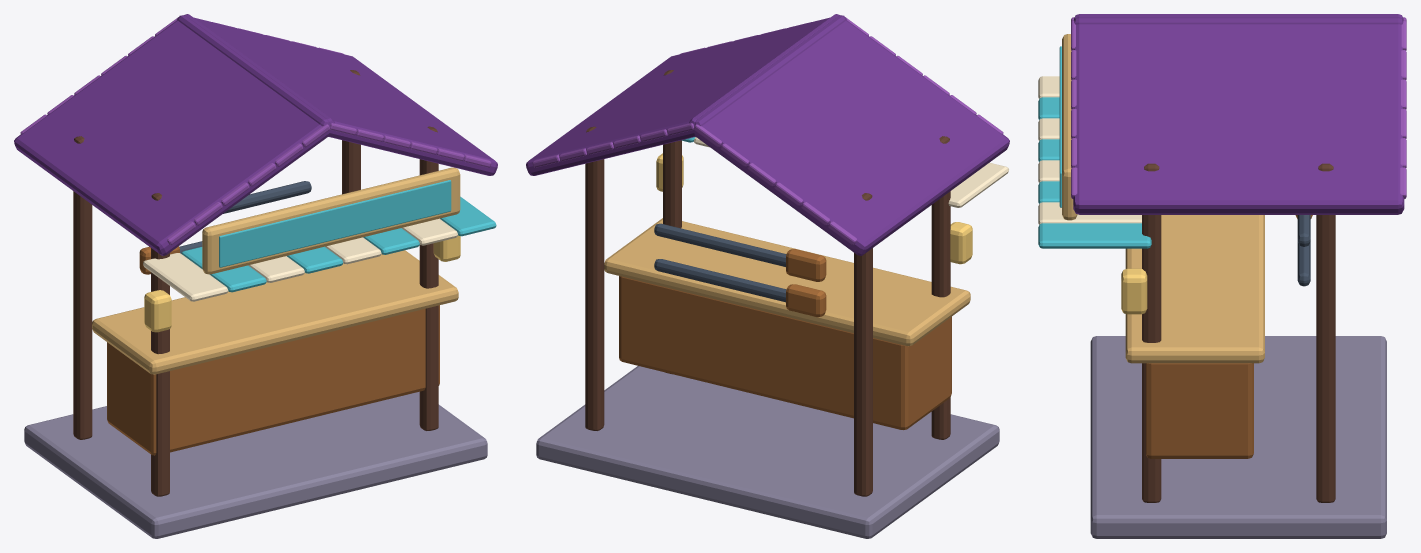
Rendered from Pavilion_Weapons.glb.
3 renders of one model, left to right at view 1: azimuth 30°, elevation 25°; view 2: azimuth 150°, elevation 25°; view 3: azimuth 270°, elevation 25°, orthographic. The views are drawn at different scales.
Visible parts, largest first — view 1: Roof, StoneBase, Counter, CounterTop, Roof.001, SignInset, Sign, Post.001, Post.002, Post, AwningStripe, AwningStripe.001 (+10 smaller); view 2: StoneBase, Roof, Counter, CounterTop, Roof.001, Post.003, Post.001, Post, RackRifle.001, RackRifle, Post.002, AwningStripe (+3 smaller); view 3: Roof.001, StoneBase, CounterTop, Counter, Post.003, Post.002, Roof, AwningStripe.007, Sign, Lantern.001, AwningStripe.006, RackRifle (+7 smaller).
Part boxes in pixels (<box>): Roof: <box>14,14,334,255</box>; StoneBase: <box>24,391,487,538</box>; Counter: <box>107,305,439,455</box>; CounterTop: <box>92,250,458,374</box>; Roof.001: <box>177,15,497,175</box>; SignInset: <box>219,180,451,267</box>; Sign: <box>202,167,460,274</box>; Post.001: <box>73,136,92,439</box>; Post.002: <box>419,126,438,430</box>; Post: <box>151,193,169,496</box>; AwningStripe: <box>143,253,228,301</box>; AwningStripe.001: <box>181,247,266,292</box>; StoneBase: <box>536,366,999,538</box>; Roof: <box>689,14,1009,255</box>; Counter: <box>619,276,951,430</box>; CounterTop: <box>604,218,970,346</box>; Roof.001: <box>526,15,846,175</box>; Post.003: <box>585,126,604,430</box>; Post.001: <box>854,193,872,496</box>; Post: <box>931,136,950,439</box>; RackRifle.001: <box>654,223,786,266</box>; RackRifle: <box>654,259,786,302</box>; Post.002: <box>663,70,681,373</box>; AwningStripe: <box>948,162,1008,207</box>; Roof.001: <box>1073,14,1404,214</box>; StoneBase: <box>1090,336,1386,538</box>; CounterTop: <box>1125,215,1264,363</box>; Counter: <box>1146,363,1253,458</box>; Post.003: <box>1316,163,1335,502</box>; Post.002: <box>1142,163,1161,502</box>; Roof: <box>1074,16,1403,24</box>; AwningStripe.007: <box>1038,223,1151,248</box>; Sign: <box>1062,34,1077,220</box>; Lantern.001: <box>1121,268,1147,314</box>; AwningStripe.006: <box>1038,202,1141,224</box>; RackRifle: <box>1297,242,1310,286</box>.
Bounding box in the file's own units: 5.07 × 5.49 × 4.23.
